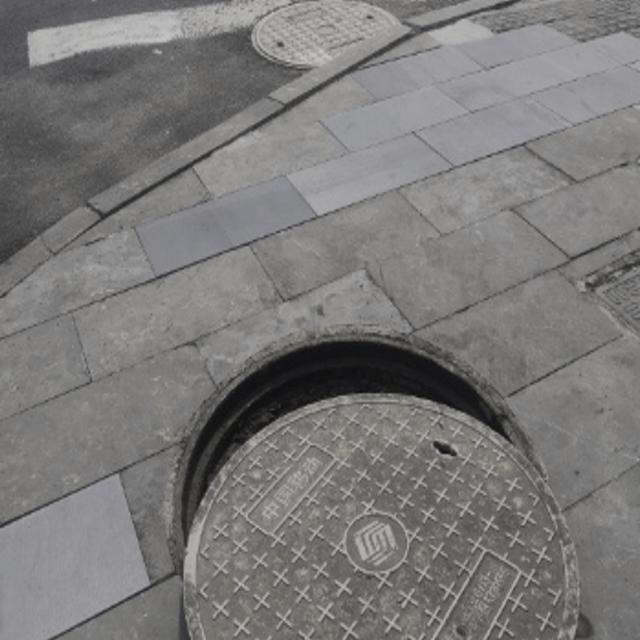good: (251, 1, 412, 64)
uncovered: (170, 328, 577, 640)
